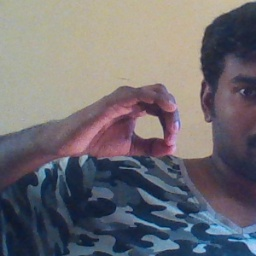O: (62, 76, 183, 165)
